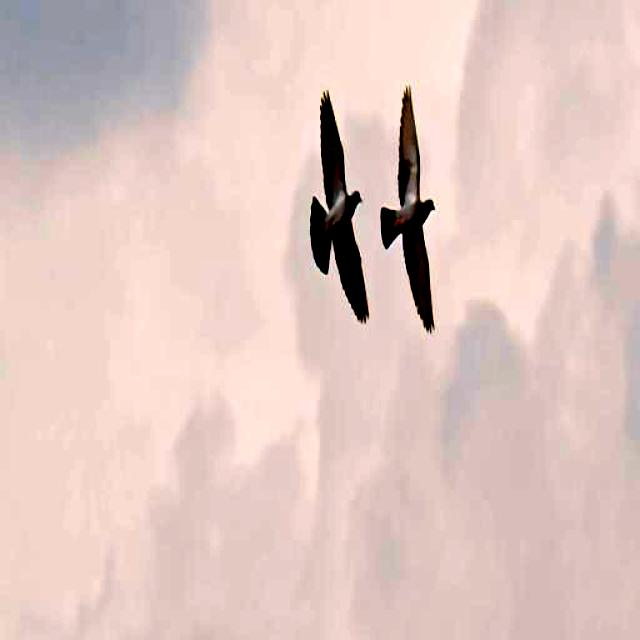airplane: (378, 55, 464, 371), (301, 52, 376, 342)
